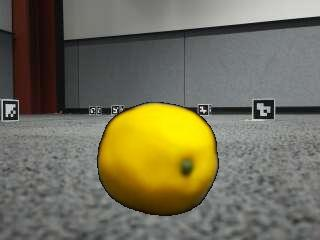lemon: (97, 104, 216, 217)
